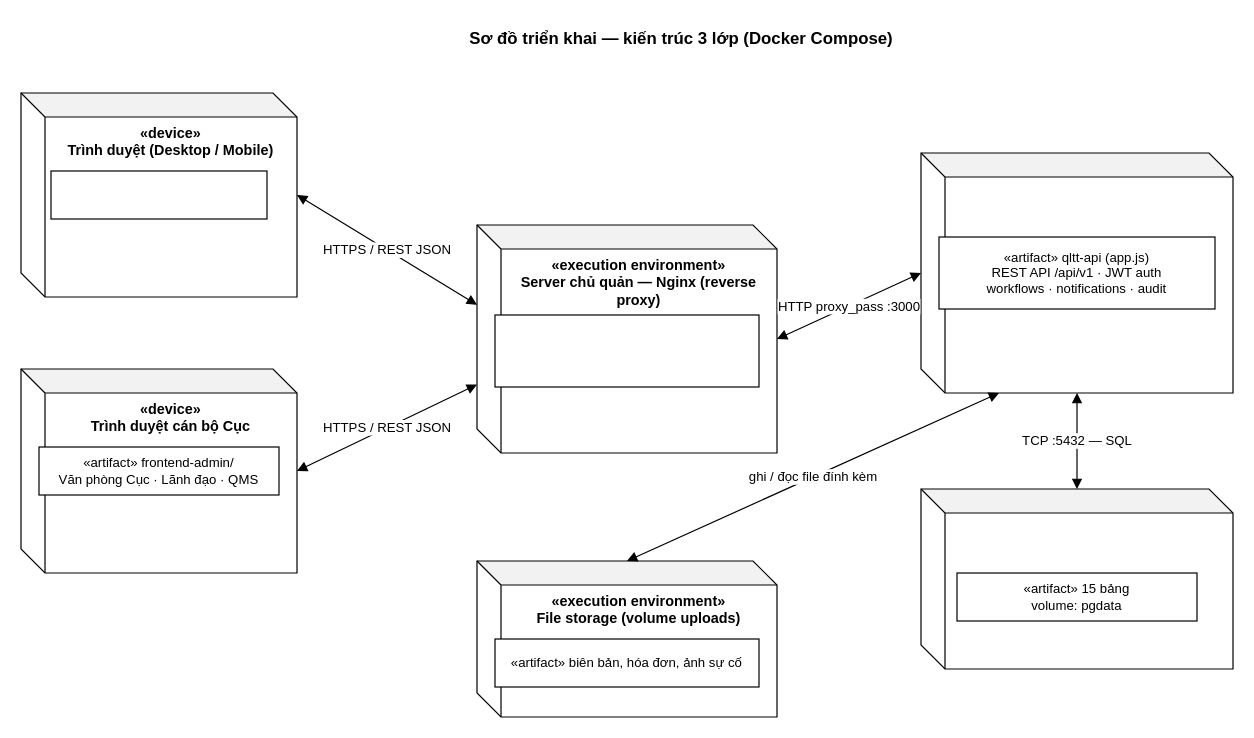
Some shapes in this 1254 by 738 pixel diagram are drawn without their labels. The box of each missing label's shape, as (x1, y1, x2, y2) in pixels:
«artifact» frontend/ cổng cho đơn vị sử dụng: (50, 170, 267, 219)
«artifact» nginx.conf TLS termination · static files proxy_pass /api → api:3000: (494, 314, 759, 387)
«execution environment» Node.js 20 + Express (container api): (920, 152, 1233, 393)
«execution environment» PostgreSQL 16 (container db): (920, 488, 1233, 669)
